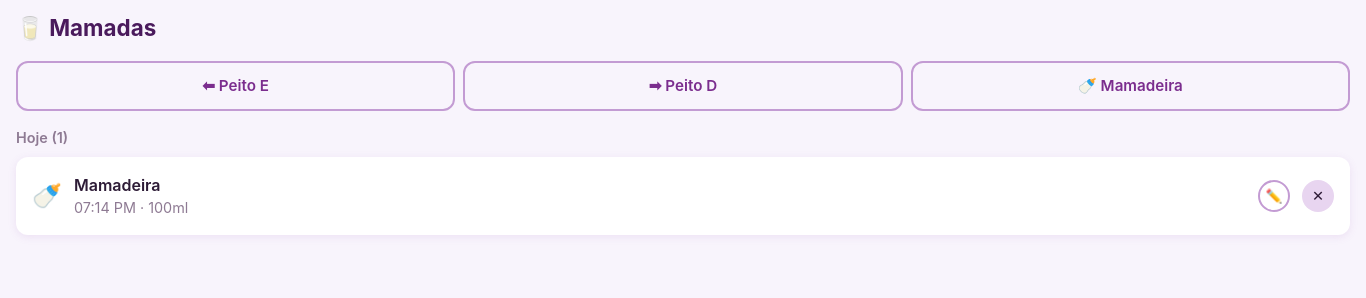
Feeding › edits a feeding record
Click the button "✏️" at (1274, 196), box [1258,180,1290,212]
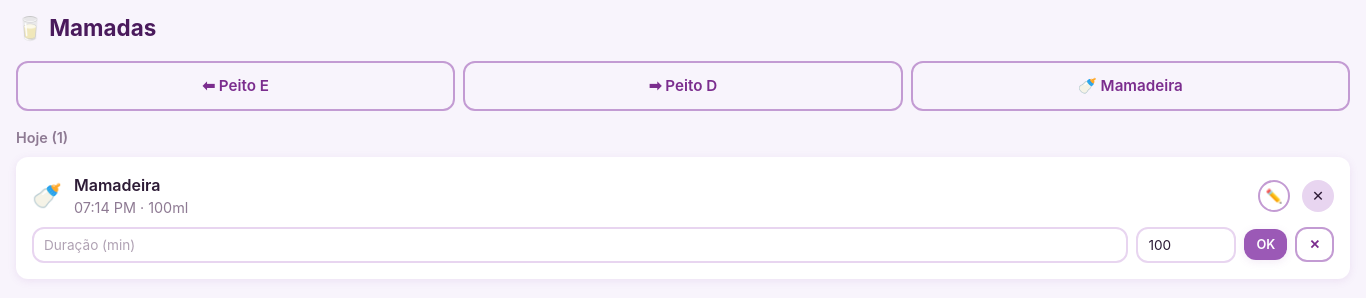
Check: the number field with placeholder "Duração (min)" is shown, box [32,227,1128,263]
